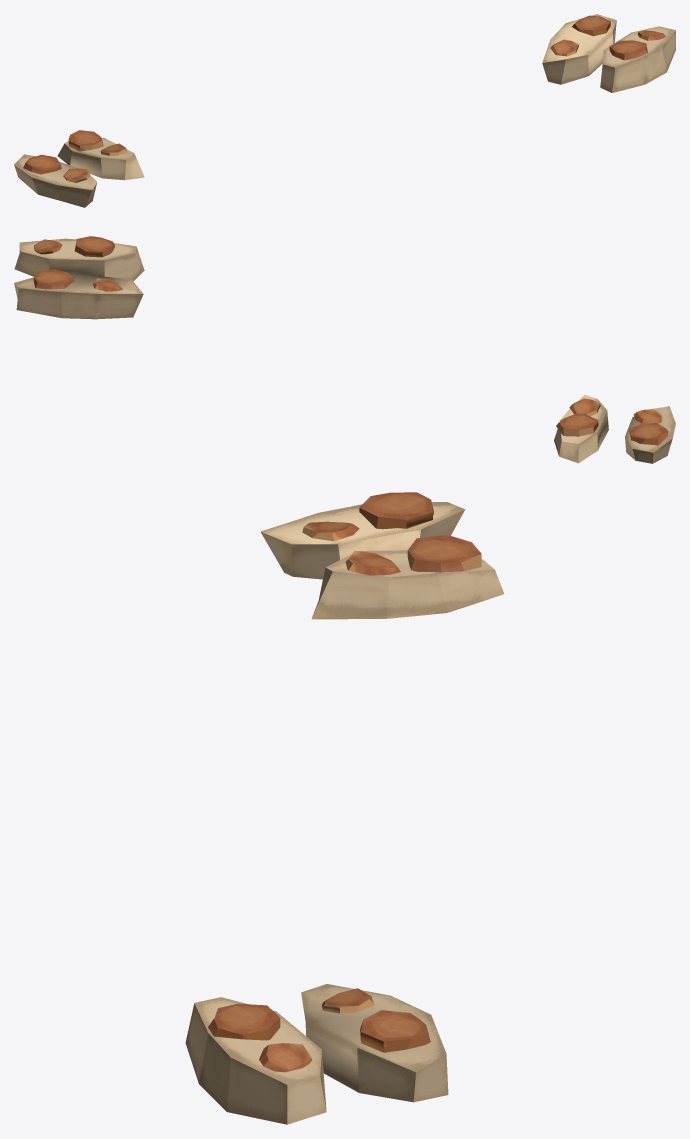
Rendered from Gefilte_UV.fbx.
3 views of the same model, one above another, from view 1: azimuth 30°, elevation 25°; view 2: azimuth 150°, elevation 25°; view 3: azimuth 270°, elevation 25° (orthographic). The views are drawn at different scales.
Visible parts, largest first — view 1: gefilte, gefilte_2_2, gefilte_3, gefilte_3_2, gezer_2_2, gezer_4, gezer_1, gezer_1_2, gezer_2, gezer_2_3; view 2: gefilte_2_2, gefilte, gefilte_3_2, gefilte_3, gezer_4, gezer_1_2, gezer_2_2, gezer_1, gezer_3; view 3: gefilte, gefilte_2_2, gefilte_3_2, gefilte_3, gezer_4, gezer_1, gezer_1_2, gezer_2_2, gezer, gezer_3, gezer_2.
Boxes of the visible parts, <box> form: gefilte: <box>600,26,675,92</box>; gefilte_2_2: <box>542,14,616,84</box>; gefilte_3: <box>14,154,96,207</box>; gefilte_3_2: <box>57,138,144,180</box>; gezer_2_2: <box>609,40,647,60</box>; gezer_4: <box>68,130,103,151</box>; gezer_1: <box>572,15,610,36</box>; gezer_1_2: <box>23,154,61,174</box>; gezer_2: <box>550,39,578,56</box>; gezer_2_3: <box>63,168,90,182</box>; gefilte_2_2: <box>14,274,143,319</box>; gefilte: <box>14,238,144,281</box>; gefilte_3_2: <box>554,395,608,463</box>; gefilte_3: <box>625,406,675,463</box>; gezer_4: <box>556,414,598,436</box>; gezer_1_2: <box>629,422,668,445</box>; gezer_2_2: <box>74,236,115,257</box>; gezer_1: <box>33,269,73,289</box>; gezer_3: <box>569,398,600,416</box>; gefilte: <box>185,997,326,1124</box>; gefilte_2_2: <box>301,984,448,1102</box>; gefilte_3_2: <box>311,550,504,619</box>; gefilte_3: <box>260,502,465,579</box>; gezer_4: <box>407,535,481,572</box>; gezer_1: <box>360,1010,430,1052</box>; gezer_1_2: <box>359,492,433,529</box>; gezer_2_2: <box>208,1003,280,1040</box>; gezer: <box>259,1043,311,1072</box>; gezer_3: <box>345,550,400,575</box>; gezer_2: <box>322,988,374,1013</box>.
Bounding box in the file's own units: 72.6 × 4.21 × 16.13.
